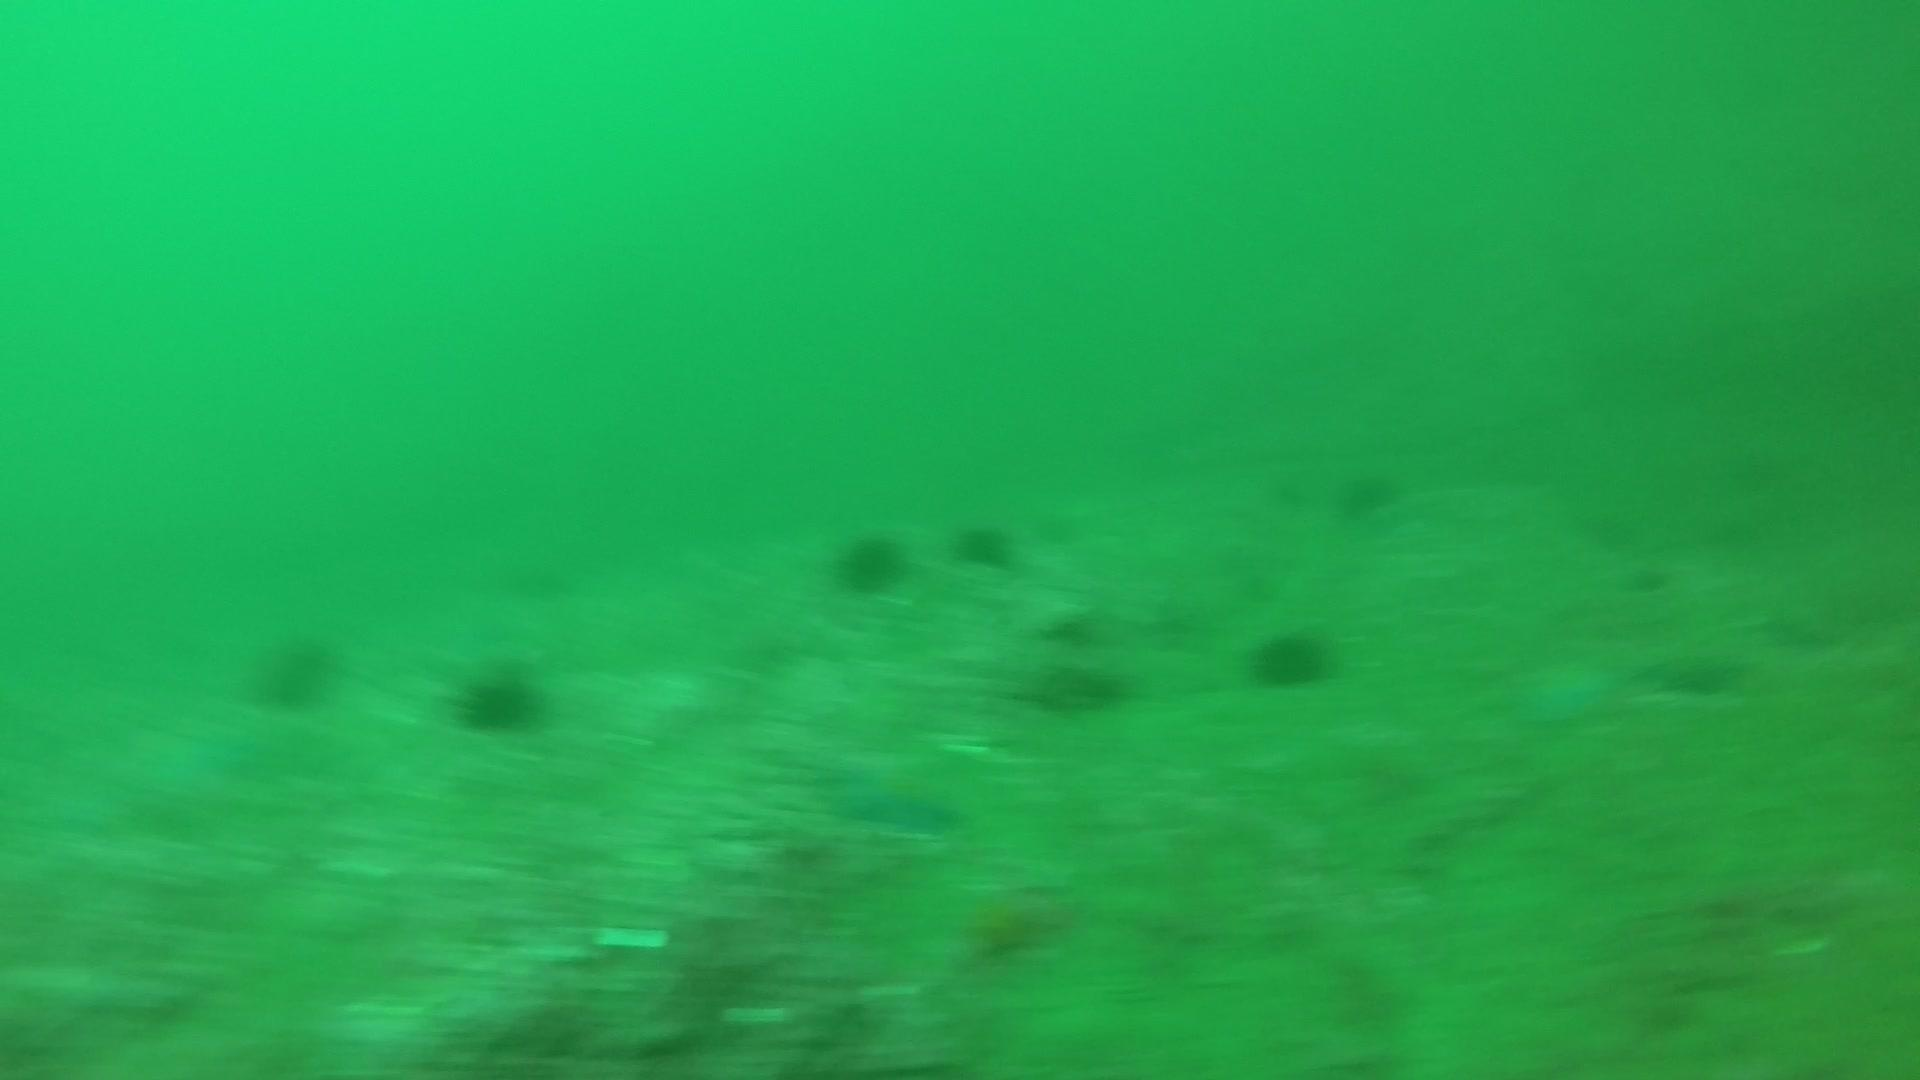echinus: (244, 624, 344, 715), (448, 654, 551, 738), (1244, 620, 1338, 695), (828, 524, 910, 597), (1331, 460, 1404, 524), (949, 514, 1019, 574), (1734, 439, 1804, 498)
starfish: (825, 750, 969, 841), (1507, 649, 1622, 731)
